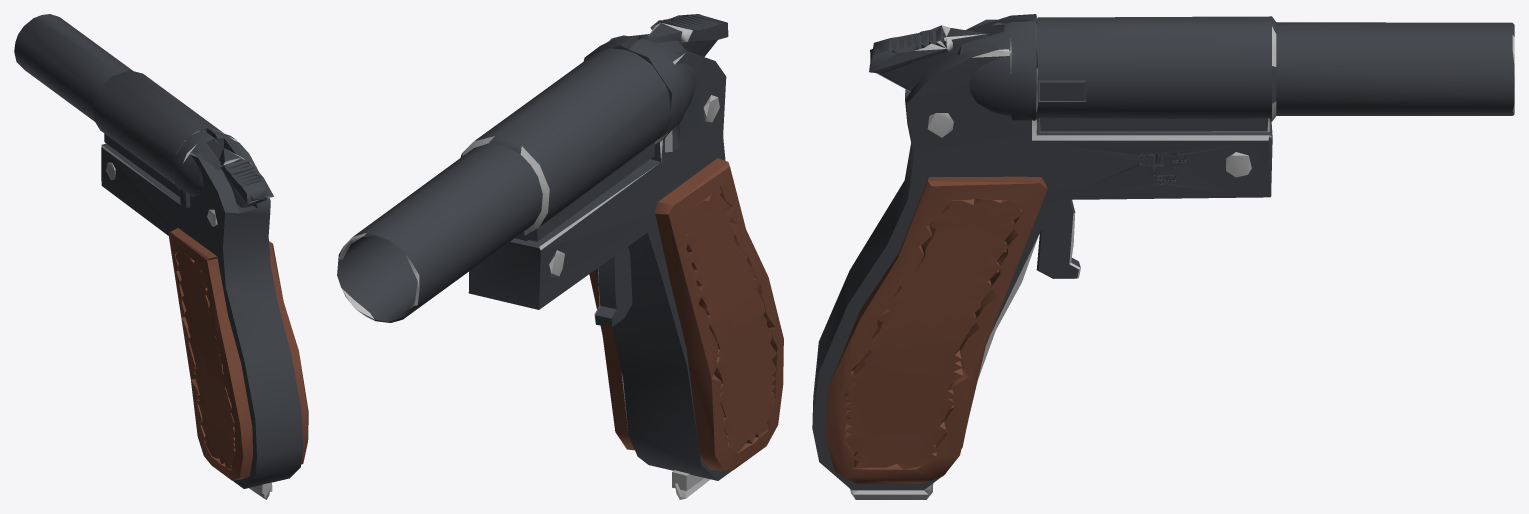
The model's file is flare_pistol_lod1.glb.
3 renders of one model, left to right at view 1: azimuth 30°, elevation 25°; view 2: azimuth 150°, elevation 25°; view 3: azimuth 270°, elevation 25°, orthographic. The views are drawn at different scales.
Parts seen in each view (by area): view 1: Blued, Bakelite, Steel, Worn; view 2: Blued, Bakelite, Worn, Steel; view 3: Blued, Bakelite, Worn, Steel.
Part boxes in pixels (bbox=[...]): Blued: bbox=[14, 14, 303, 488]; Bakelite: bbox=[168, 228, 308, 480]; Steel: bbox=[106, 162, 272, 499]; Worn: bbox=[101, 129, 273, 203]; Blued: bbox=[337, 14, 732, 480]; Bakelite: bbox=[589, 158, 783, 470]; Worn: bbox=[339, 23, 692, 430]; Steel: bbox=[549, 95, 719, 499]; Blued: bbox=[812, 14, 1514, 490]; Bakelite: bbox=[825, 176, 1047, 483]; Worn: bbox=[876, 15, 1514, 441]; Steel: bbox=[850, 113, 1251, 499].
Bounding box in the file's own units: 0.038 × 0.1659 × 0.2202.
